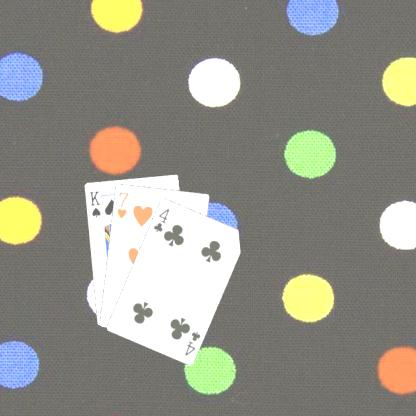4C: (181, 328, 202, 357), (150, 206, 171, 233)
7H: (114, 189, 130, 220)
KS: (86, 188, 102, 218)
